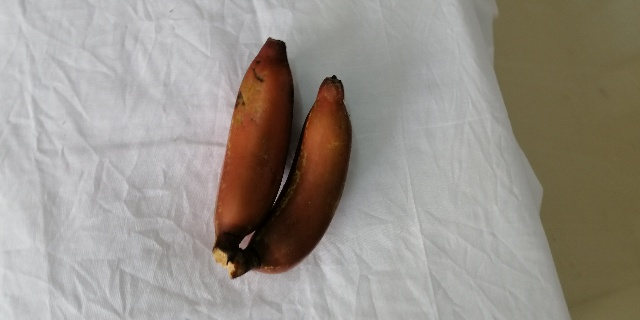banana_red: (229, 76, 353, 277), (211, 37, 292, 262)
